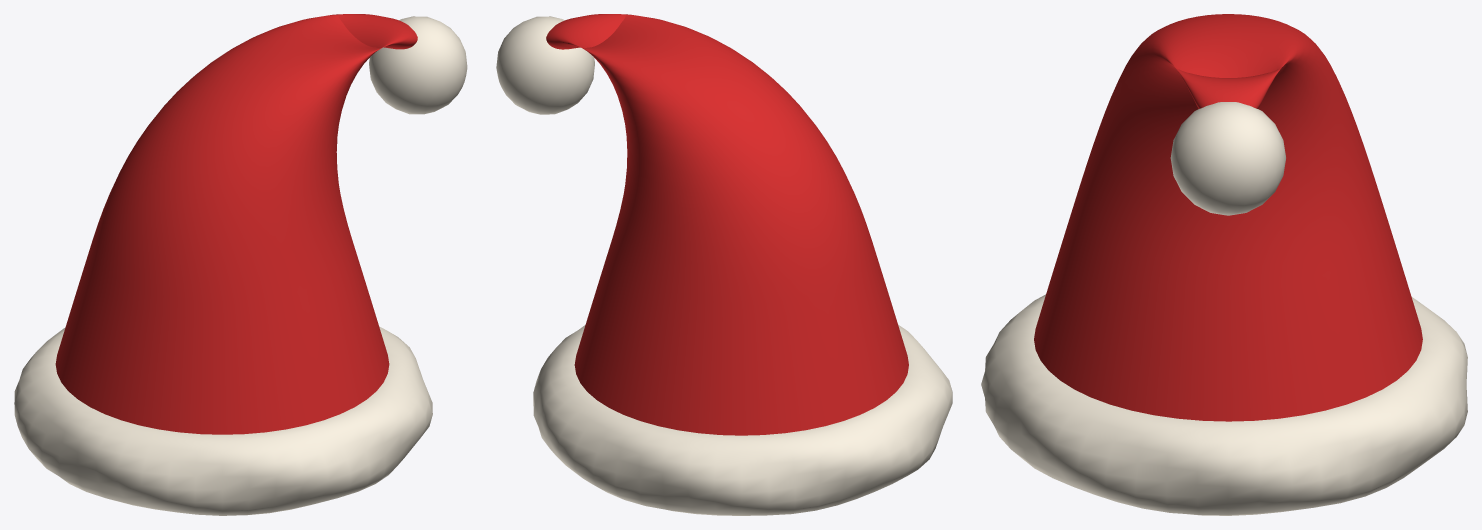
Rendered from santa_hat.glb.
The picture shows the model from 3 angles, left to right: view 1: azimuth 30°, elevation 25°; view 2: azimuth 150°, elevation 25°; view 3: azimuth 270°, elevation 25°; orthographic projection. The views are drawn at different scales.
Parts seen in each view (by area): view 1: cone, band, pompom; view 2: cone, band, pompom; view 3: cone, band, pompom.
Part boxes in pixels (x1,y1,x2,y2): cone: (55, 14, 417, 434); band: (14, 326, 432, 515); pompom: (369, 16, 467, 114); cone: (546, 14, 908, 435); band: (533, 325, 952, 515); pompom: (496, 16, 594, 114); cone: (1034, 14, 1422, 421); band: (981, 294, 1467, 515); pompom: (1170, 102, 1285, 215).
Bounding box in the file's own units: 0.7339 × 0.6299 × 0.6318.
